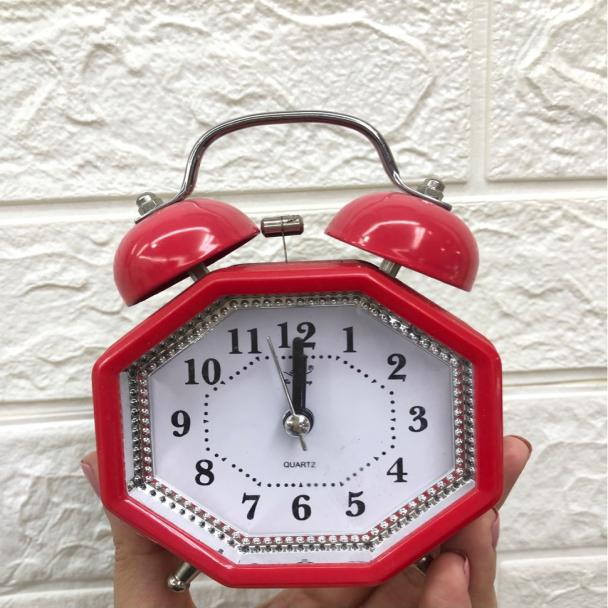Jam: (86, 107, 512, 583)
